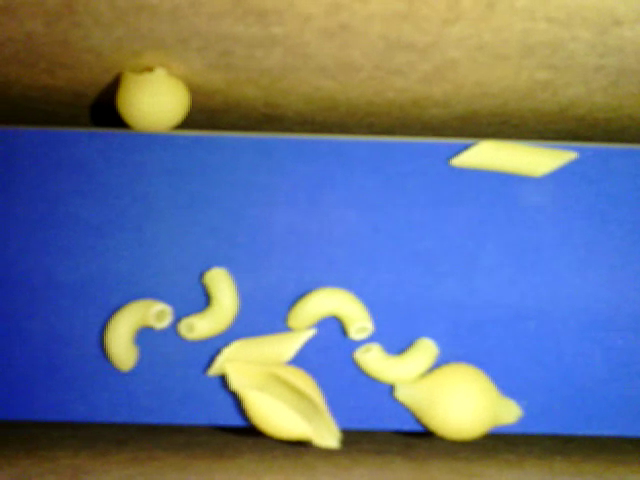elbow: (104, 297, 174, 372), (286, 287, 375, 341), (176, 266, 240, 341), (353, 334, 440, 386)
penne: (449, 136, 579, 177), (207, 328, 318, 376)
shell: (225, 361, 344, 451), (393, 362, 525, 441), (116, 67, 192, 133)
